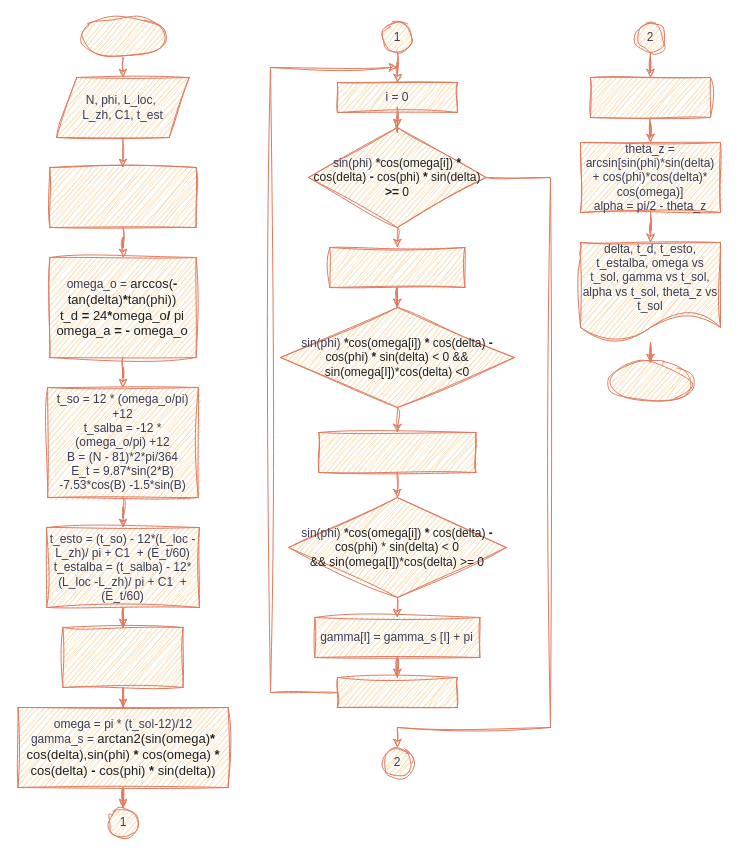
This 738x855 diagram has some shape labels left out. The shapes that lost their labels are listed below. From the top down, each one's box as (x1, y1, x2, y2) in pixels, then its label:
(80, 16, 166, 58): INICIO
(590, 76, 710, 118): theta_z = [] alpha = []
(49, 166, 196, 228): delta = 0.4093 * sin ( 2 * pi * ( 284 + N ) / 365 )
(329, 246, 465, 288): gamma[I] = gamma_s [I]
(607, 362, 693, 402): FIN
(318, 432, 476, 472): gamma[I] = gamma_s [I] - pi
(62, 626, 183, 688): t_sol =[] omega = [] gamma_s = []
(336, 676, 457, 708): I = I +1
